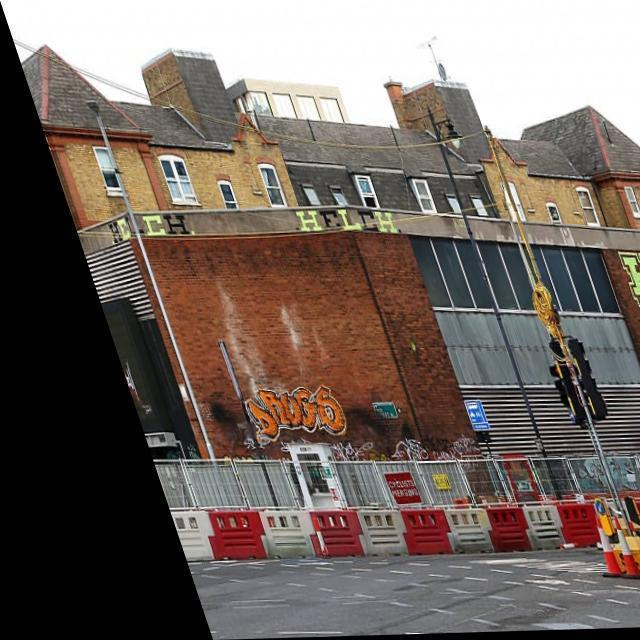nonspitting: (246, 386, 349, 442), (296, 204, 402, 233), (575, 450, 640, 496), (109, 213, 195, 242), (390, 433, 479, 461), (617, 249, 640, 308), (328, 442, 388, 463)
